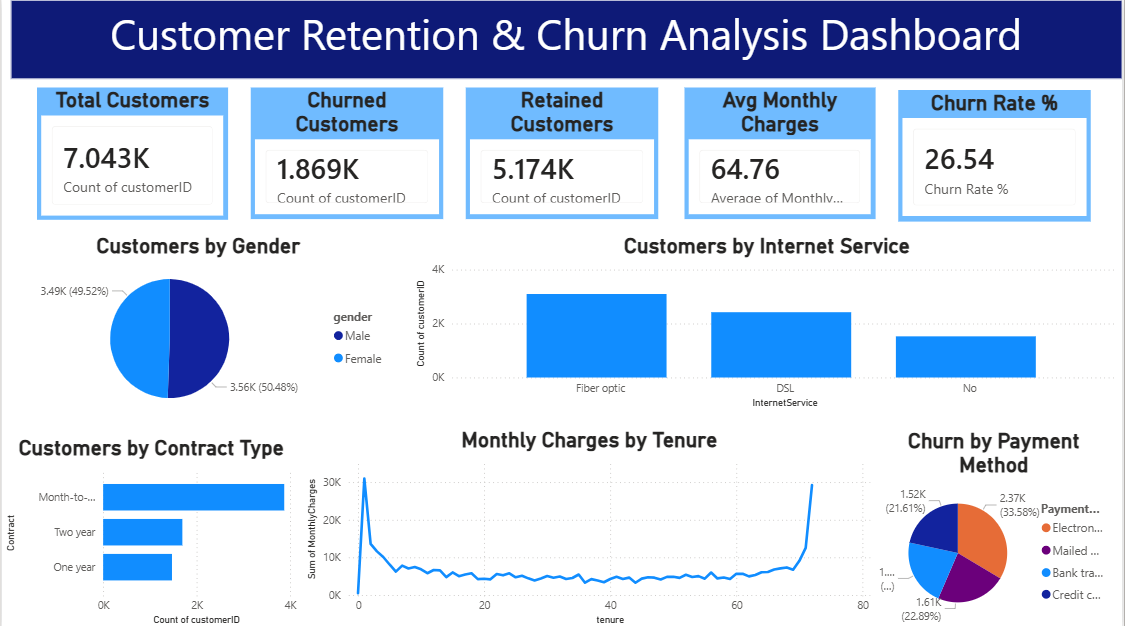

The dashboard page shown, as its layout file describes it:
{"tool":"powerbi","page":{"name":"Page 1","canvas":[1280,720],"ordinal":0},"visuals":[{"type":"textbox","box":[10,0,1270,90],"z":0},{"type":"cardVisual","title":"Total Customers","fields":{"Data":["Count(WA_Fn-UseC_-Telco-Customer-Churn.customerID)"]},"box":[40,100,218.6,151.4],"z":1000},{"type":"cardVisual","title":"Retained Customers","fields":{"Data":["Count(WA_Fn-UseC_-Telco-Customer-Churn.customerID)"]},"box":[530,100,220,150],"z":2000},{"type":"cardVisual","title":"Avg Monthly Charges","fields":{"Data":["Avg(WA_Fn-UseC_-Telco-Customer-Churn.MonthlyCharges)"]},"box":[780,100,218.6,150],"z":3000},{"type":"cardVisual","title":"Churned Customers","fields":{"Data":["Count(WA_Fn-UseC_-Telco-Customer-Churn.customerID)"]},"box":[284.3,100,220,150],"z":4000},{"type":"cardVisual","title":"Churn Rate %","fields":{"Data":["WA_Fn-UseC_-Telco-Customer-Churn.Churn Rate %"]},"box":[1024.3,102.9,220,150],"z":5000},{"type":"pieChart","title":"Customers by Gender","fields":{"Category":["WA_Fn-UseC_-Telco-Customer-Churn.gender"],"Y":["CountNonNull(WA_Fn-UseC_-Telco-Customer-Churn.customerID)"]},"box":[0,267.1,448.6,212.9],"z":6000},{"type":"clusteredBarChart","title":"Customers by Contract Type","fields":{"Category":["WA_Fn-UseC_-Telco-Customer-Churn.Contract"],"Y":["CountNonNull(WA_Fn-UseC_-Telco-Customer-Churn.customerID)"]},"box":[0,497.1,341.4,222.9],"z":7000},{"type":"clusteredColumnChart","title":"Customers by Internet Service","fields":{"Category":["WA_Fn-UseC_-Telco-Customer-Churn.InternetService"],"Y":["CountNonNull(WA_Fn-UseC_-Telco-Customer-Churn.customerID)"]},"box":[468.6,267.1,811.4,204.3],"z":8000},{"type":"lineChart","title":"Monthly Charges by Tenure","fields":{"Category":["WA_Fn-UseC_-Telco-Customer-Churn.tenure"],"Y":["Sum(WA_Fn-UseC_-Telco-Customer-Churn.MonthlyCharges)"]},"box":[344.3,488.6,654.3,231.4],"z":9000},{"type":"pieChart","title":"Churn by Payment Method","fields":{"Category":["WA_Fn-UseC_-Telco-Customer-Churn.PaymentMethod"],"Y":["CountNonNull(WA_Fn-UseC_-Telco-Customer-Churn.customerID)"]},"box":[992.9,490,281.4,230],"z":9001}]}

Visuals, with their boxes in screenshot pixels (x1, y1, x2, y2), scaled from the page's 1280x720 canvas onto the 1125x626 screenshot:
textbox: (9, 0, 1124, 78)
"Total Customers" cardVisual: (35, 87, 227, 219)
"Retained Customers" cardVisual: (466, 87, 659, 217)
"Avg Monthly Charges" cardVisual: (686, 87, 878, 217)
"Churned Customers" cardVisual: (250, 87, 443, 217)
"Churn Rate %" cardVisual: (900, 89, 1094, 220)
"Customers by Gender" pieChart: (0, 232, 394, 417)
"Customers by Contract Type" clusteredBarChart: (0, 432, 300, 625)
"Customers by Internet Service" clusteredColumnChart: (412, 232, 1124, 410)
"Monthly Charges by Tenure" lineChart: (303, 425, 878, 625)
"Churn by Payment Method" pieChart: (873, 426, 1120, 625)
